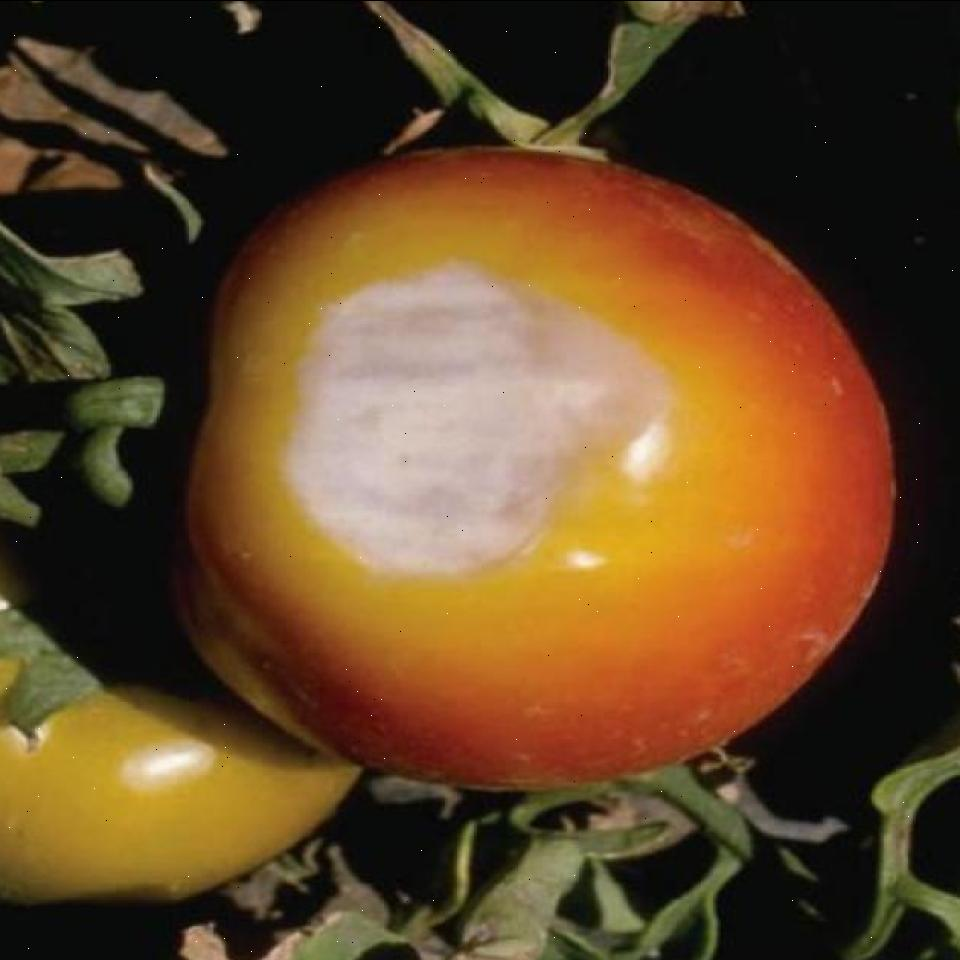Sunscald: (290, 243, 734, 598)
